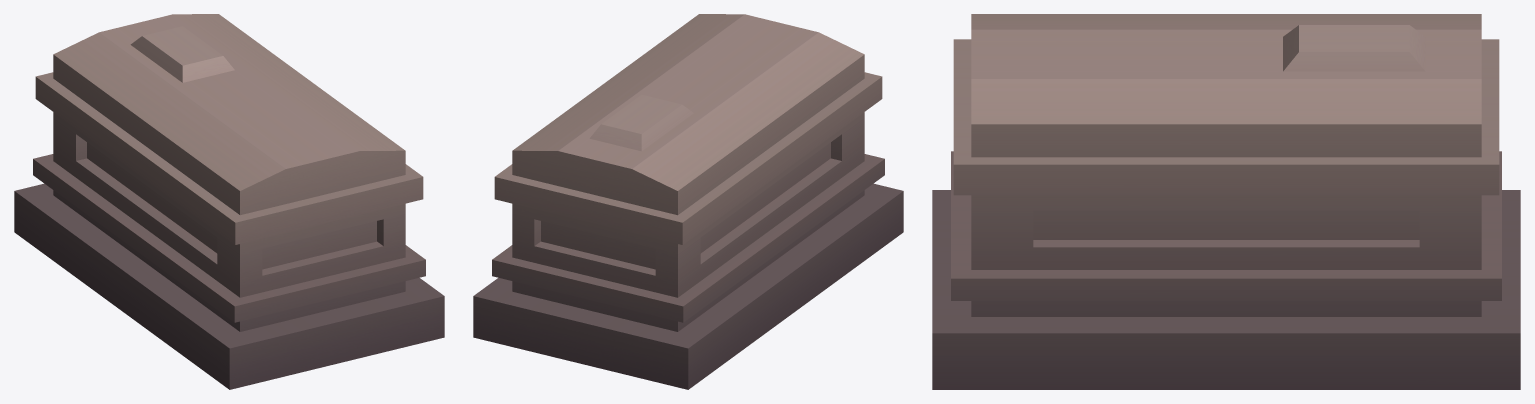
File: sarcophagus.glb
3 views of the same model, side by side, from view 1: azimuth 30°, elevation 25°; view 2: azimuth 150°, elevation 25°; view 3: azimuth 270°, elevation 25° (orthographic). The views are drawn at different scales.
Visible parts, largest first — view 1: sarcophagus; view 2: sarcophagus; view 3: sarcophagus.
Boxes of the visible parts, box(x1,y1,x2,y2) form: sarcophagus: box(14, 14, 444, 389); sarcophagus: box(473, 14, 903, 389); sarcophagus: box(932, 14, 1520, 389).
Bounding box in the file's own units: 0.9741 × 0.8868 × 1.69.
Materials: 1 (1 with a texture image).
